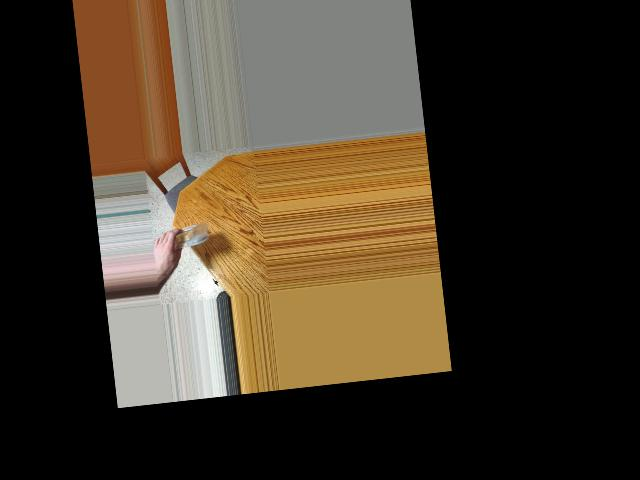cheese: (160, 214, 212, 267)
